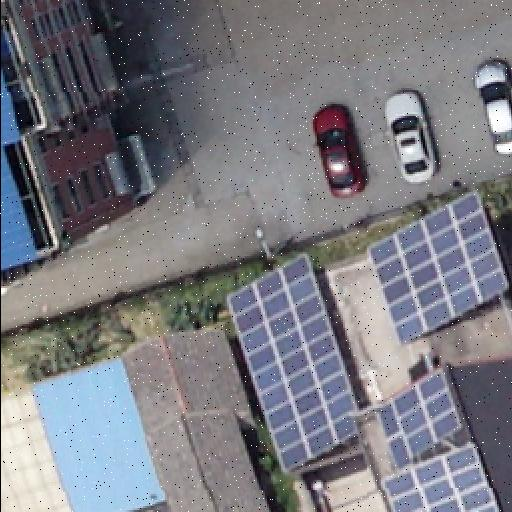solar-panel: (226, 252, 358, 472), (364, 191, 508, 345), (372, 368, 460, 468), (377, 444, 495, 512)
